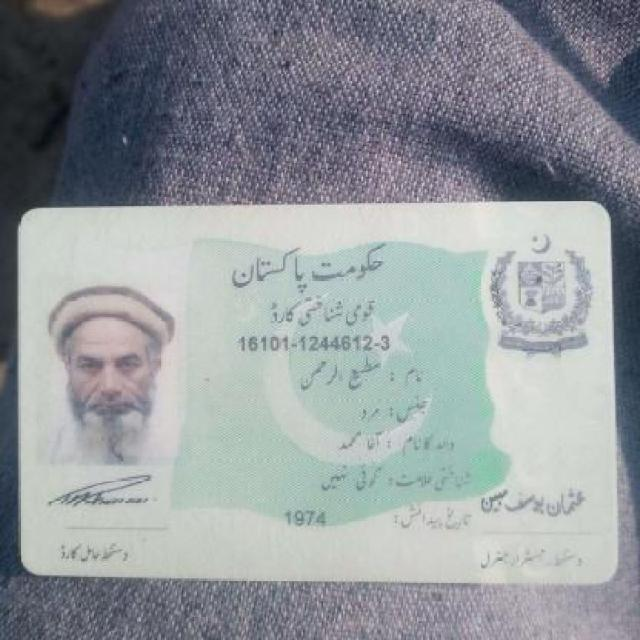Front: (14, 194, 621, 588)
